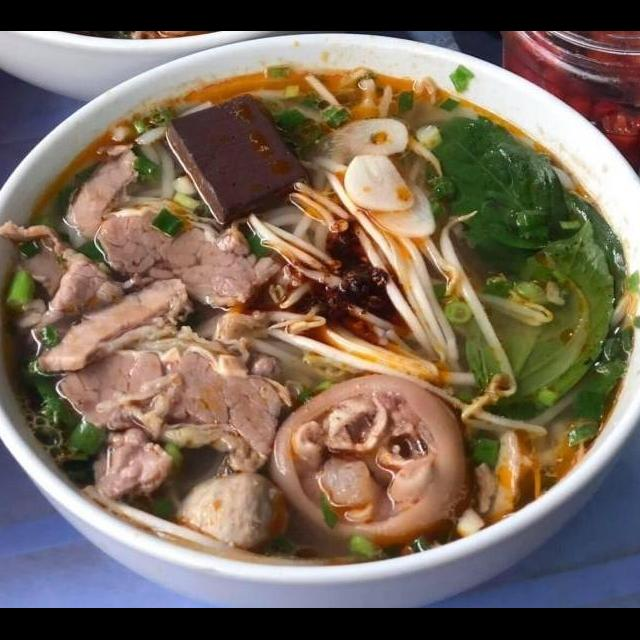bun: (110, 91, 218, 218), (253, 160, 349, 264)
bun bo: (3, 68, 638, 588)
thit bo: (54, 150, 290, 320), (51, 324, 294, 480), (29, 269, 196, 382), (0, 212, 127, 346), (78, 414, 178, 510)
